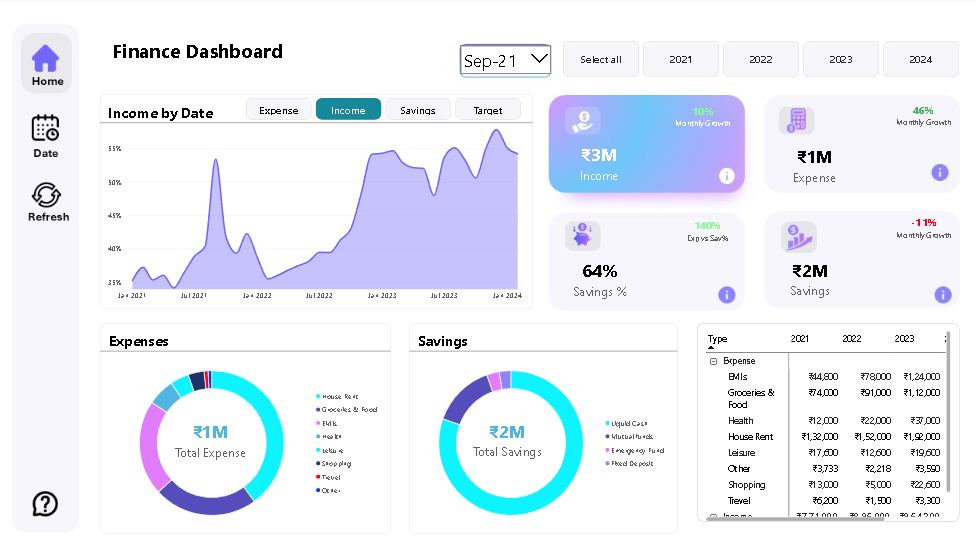

What the dashboard file says about the page in this screenshot:
{"tool":"powerbi","page":{"name":"Page 1","canvas":[1920,1080],"ordinal":0},"visuals":[{"type":"donutChart","title":"Expenses ","fields":{"Category":["Dataset.Component"],"Y":["Dataset.Expense"]},"box":[207.5,630,562.5,407.5],"z":0},{"type":"donutChart","title":"Savings ","fields":{"Category":["Dataset.Component"],"Y":["Dataset.Savings"]},"box":[805,630,520,407.5],"z":1000},{"type":"pivotTable","fields":{"Rows":["Dataset.Type","Dataset.Component"],"Values":["Dataset.Total Value"],"Columns":["Dataset.Year"]},"box":[1362.5,630,507.5,385],"z":2000},{"type":"areaChart","fields":{"Category":["Dataset.Date"],"Y":["Dataset.Line Chart Measures"]},"box":[207.5,187.5,837.5,415],"z":3000},{"type":"advancedSlicerVisual","fields":{"Values":["Line Selection Table.Type"]},"box":[490,195,532.5,42.5],"z":4000},{"type":"advancedSlicerVisual","fields":{"Values":["Dataset.Year"]},"box":[1102.5,85,767.5,70],"z":5000},{"type":"textbox","box":[230,77.5,417.5,67.5],"z":6000},{"type":"cardVisual","fields":{"Data":["Dataset.Expense"]},"box":[1505,270,170,107.5],"z":7000},{"type":"cardVisual","fields":{"Data":["Dataset.Income"]},"box":[1067.5,262.5,210,115],"z":8000},{"type":"cardVisual","fields":{"Data":["Dataset.Savings"]},"box":[1487.5,490,187.5,110],"z":9000},{"type":"cardVisual","fields":{"Data":["Dataset.Savings %"]},"box":[1085,490,177.5,112.5],"z":10000},{"type":"cardVisual","fields":{"Data":["Dataset.Savings Monthly Growth"]},"box":[1719.8,407.7,162.7,73.7],"z":11000},{"type":"cardVisual","fields":{"Data":["Dataset.Expenses Monthly Growth"]},"box":[1724.1,190.8,154,71.6],"z":12000},{"type":"cardVisual","fields":{"Data":["Dataset.Income Monthly Growth"]},"box":[1292.5,195.2,162.7,67.2],"z":13000},{"type":"cardVisual","fields":{"Data":["Dataset.Ex_vs_Sav"]},"box":[1325.1,422.9,114.9,58.6],"z":14000},{"type":"actionButton","box":[64.6,337.3,93.3,114.8],"z":16000},{"type":"slicer","fields":{"Values":["Selected_Date.Month_Year"]},"box":[900,89,185,69.7],"z":17000},{"type":"cardVisual","fields":{"Data":["Dataset.Expense"]},"box":[336.1,802.4,169.2,108.4],"z":18000},{"type":"cardVisual","fields":{"Data":["Dataset.Savings"]},"box":[901,801.8,187.7,109.9],"z":19000},{"type":"actionButton","box":[71.8,215.3,86.1,111.3],"z":20000}]}

Visuals, with their boxes on the page's 1920x1080 design canvas (x1, y1, x2, y2). These are canvas units, not pixel positions in the 976x536 screenshot, which may show the page scaled, cropped or inside an application window:
"Expenses " donutChart: rect(208, 630, 770, 1038)
"Savings " donutChart: rect(805, 630, 1325, 1038)
pivotTable - Dataset.Type x Dataset.Component: rect(1362, 630, 1870, 1015)
areaChart - Dataset.Date x Dataset.Line Chart Measures: rect(208, 188, 1045, 602)
advancedSlicerVisual - Line Selection Table.Type: rect(490, 195, 1022, 238)
advancedSlicerVisual - Dataset.Year: rect(1102, 85, 1870, 155)
textbox: rect(230, 78, 648, 145)
cardVisual - Dataset.Expense: rect(1505, 270, 1675, 378)
cardVisual - Dataset.Income: rect(1068, 262, 1278, 378)
cardVisual - Dataset.Savings: rect(1488, 490, 1675, 600)
cardVisual - Dataset.Savings %: rect(1085, 490, 1262, 602)
cardVisual - Dataset.Savings Monthly Growth: rect(1720, 408, 1882, 481)
cardVisual - Dataset.Expenses Monthly Growth: rect(1724, 191, 1878, 262)
cardVisual - Dataset.Income Monthly Growth: rect(1292, 195, 1455, 262)
cardVisual - Dataset.Ex_vs_Sav: rect(1325, 423, 1440, 482)
actionButton: rect(65, 337, 158, 452)
slicer - Selected_Date.Month_Year: rect(900, 89, 1085, 159)
cardVisual - Dataset.Expense: rect(336, 802, 505, 911)
cardVisual - Dataset.Savings: rect(901, 802, 1089, 912)
actionButton: rect(72, 215, 158, 327)
